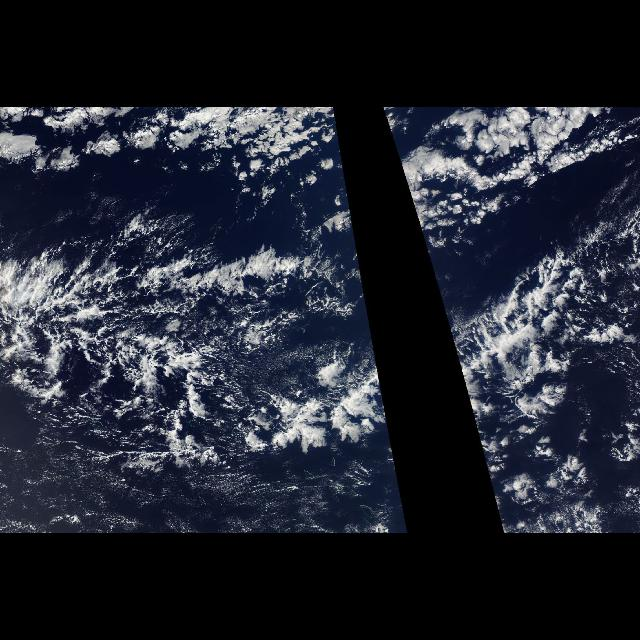Fish: (0, 220, 392, 448), (417, 220, 627, 448)
Sugar: (2, 444, 330, 534)
